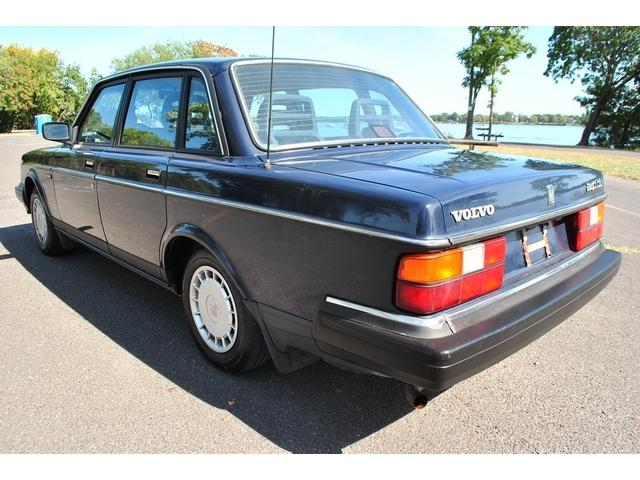volvo: (438, 196, 511, 234)
